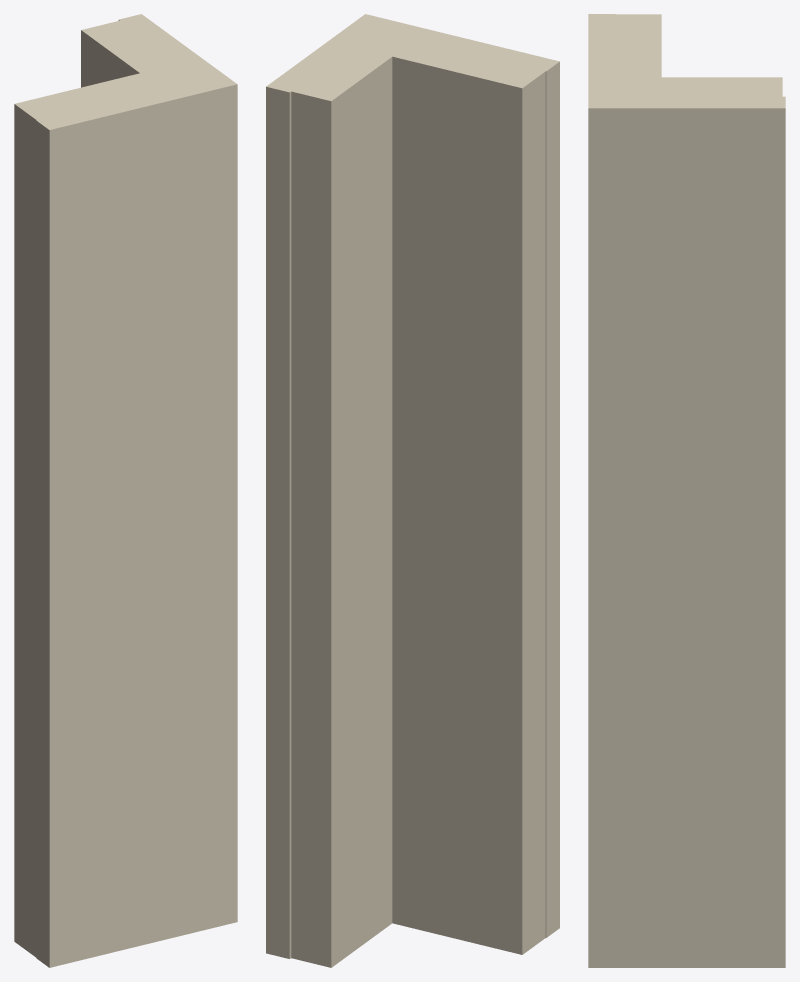
The picture shows the model from 3 angles, left to right: view 1: azimuth 30°, elevation 25°; view 2: azimuth 150°, elevation 25°; view 3: azimuth 270°, elevation 25°; orthographic projection. The views are drawn at different scales.
Visible parts, largest first — view 1: A-GF-WALL-034; view 2: A-GF-WALL-034; view 3: A-GF-WALL-034.
Boxes of the visible parts, x1,y1,x2,y2 form: A-GF-WALL-034: (14, 14, 237, 967); A-GF-WALL-034: (266, 14, 559, 967); A-GF-WALL-034: (588, 14, 785, 967).
Bounding box in the file's own units: 0.639 × 2.72 × 0.565.
